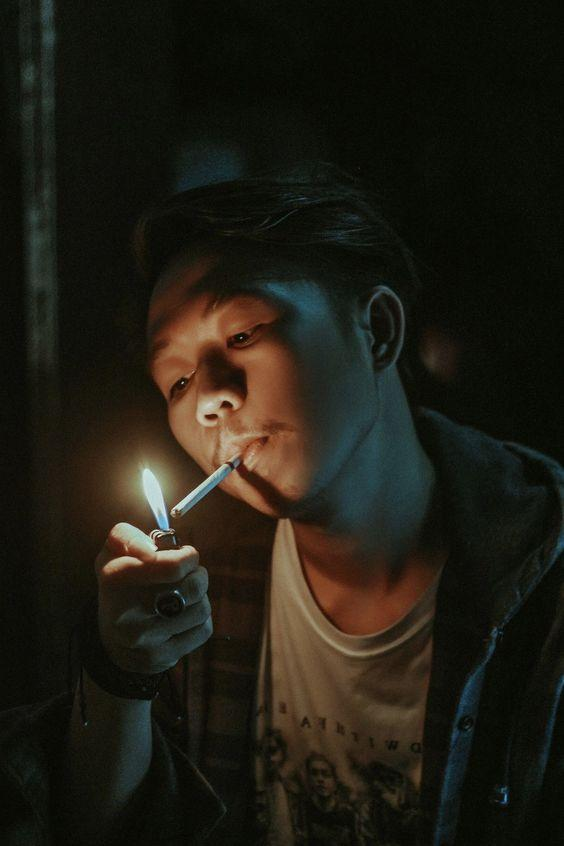cigarette: (170, 450, 245, 520)
